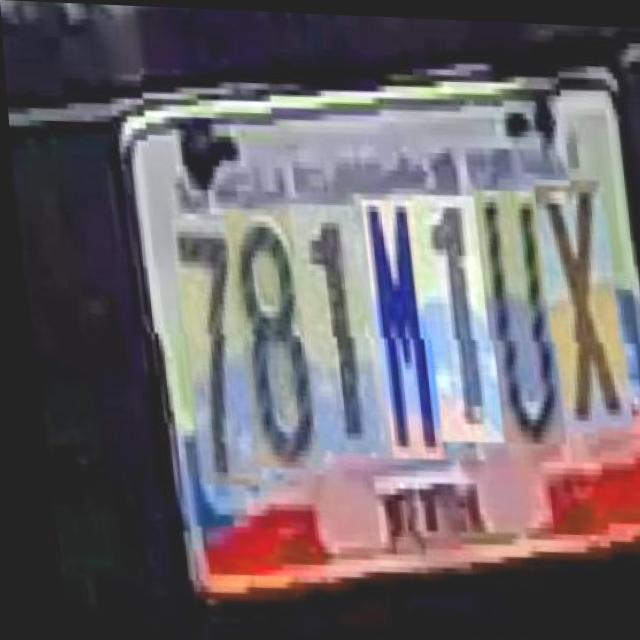1: (411, 191, 502, 442), (288, 201, 371, 451)
7: (169, 217, 251, 486)
8: (223, 207, 315, 469)
m: (360, 196, 434, 458)
u: (472, 187, 557, 443)
x: (534, 182, 625, 433)
